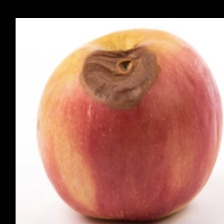apple: (46, 41, 195, 216)
